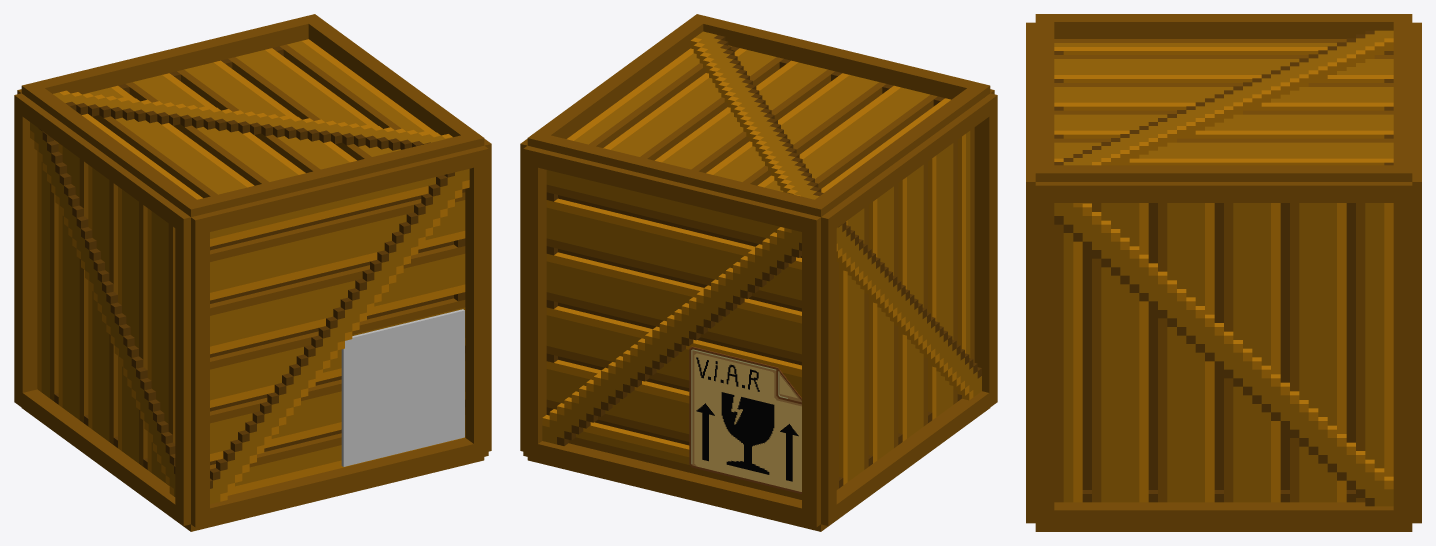
The model's file is viarCrate1.fbx.
3 renders of one model, left to right at view 1: azimuth 30°, elevation 25°; view 2: azimuth 150°, elevation 25°; view 3: azimuth 270°, elevation 25°, orthographic. The views are drawn at different scales.
Parts seen in each view (by area): view 1: viarCrate1_002, viarCrate1_004, viarCrate1_003, viarCrate1, viarCrate1_005; view 2: viarCrate1_001, viarCrate1_004, viarCrate1_003, viarCrate1, viarCrate1_005; view 3: viarCrate1_005, viarCrate1_003, viarCrate1_002, viarCrate1_001, viarCrate1.
Boxes of the visible parts, x1=… form: viarCrate1_002: x1=191, y1=145, x2=488, y2=527; viarCrate1_004: x1=14, y1=93, x2=190, y2=525; viarCrate1_003: x1=21, y1=14, x2=484, y2=216; viarCrate1: x1=22, y1=408, x2=484, y2=531; viarCrate1_005: x1=484, y1=138, x2=491, y2=451; viarCrate1_001: x1=523, y1=145, x2=820, y2=527; viarCrate1_004: x1=821, y1=93, x2=997, y2=525; viarCrate1_003: x1=527, y1=14, x2=990, y2=216; viarCrate1: x1=527, y1=408, x2=989, y2=531; viarCrate1_005: x1=520, y1=138, x2=527, y2=451; viarCrate1_005: x1=1035, y1=182, x2=1412, y2=527; viarCrate1_003: x1=1035, y1=14, x2=1412, y2=181; viarCrate1_002: x1=1026, y1=22, x2=1035, y2=523; viarCrate1_001: x1=1412, y1=22, x2=1421, y2=523; viarCrate1: x1=1035, y1=527, x2=1412, y2=531.
Bounding box in the file's own units: 42 × 42 × 42.
